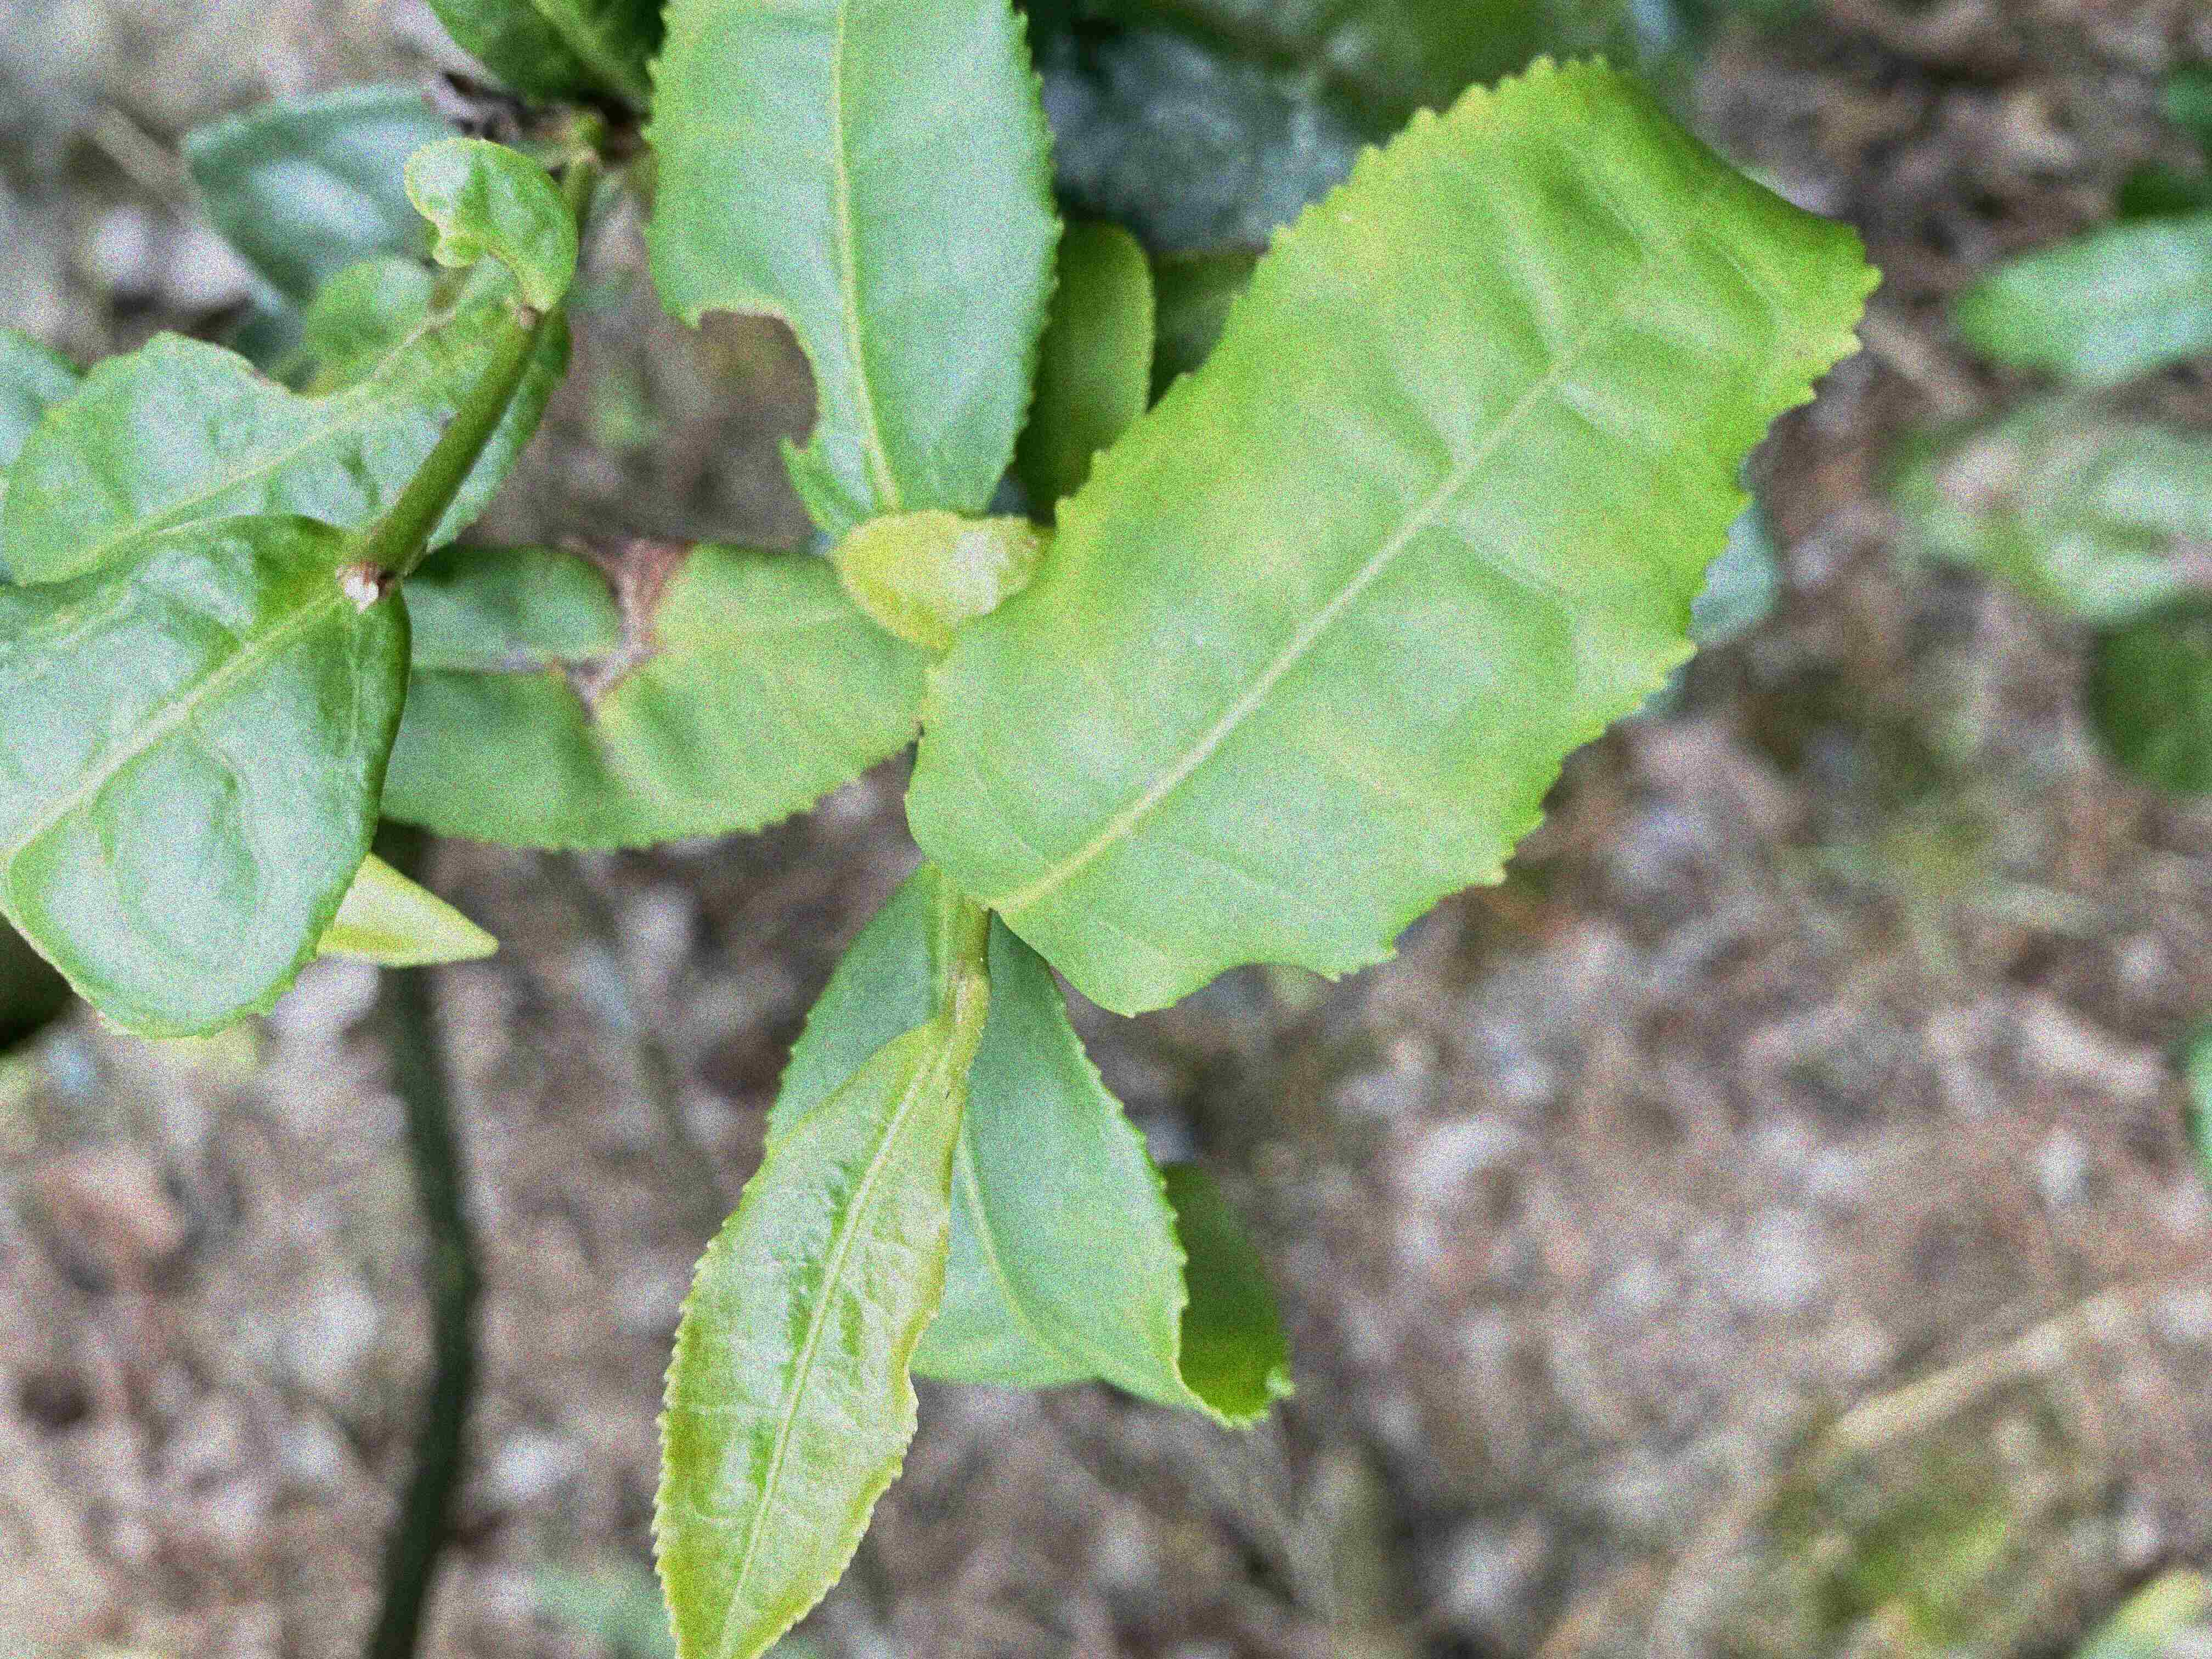chihuo_low: (636, 3, 1068, 542), (3, 284, 570, 587)
healthy: (650, 1014, 968, 1657)
tanju_high: (380, 523, 916, 857)
